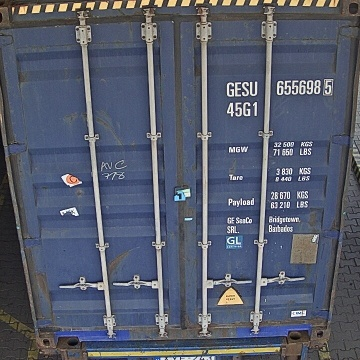serial_id: (226, 79, 333, 96)
